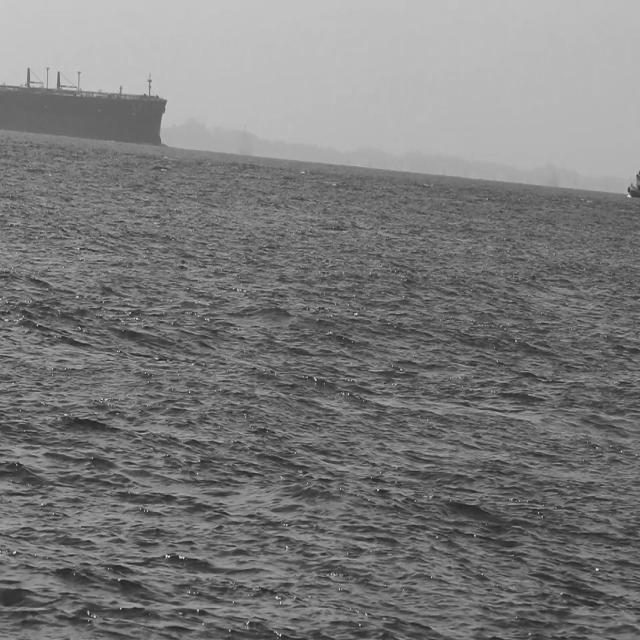boat: (628, 181, 639, 215)
ship: (1, 77, 167, 156)
